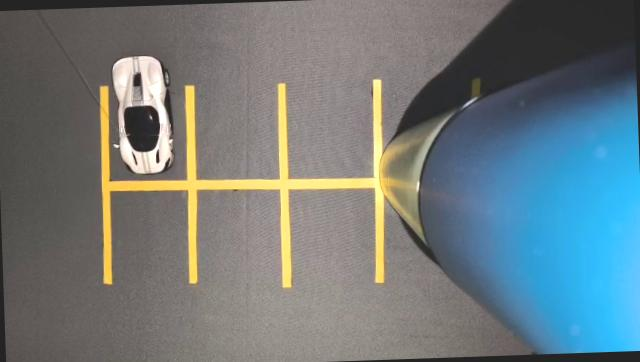toy_car: (96, 32, 196, 184)
